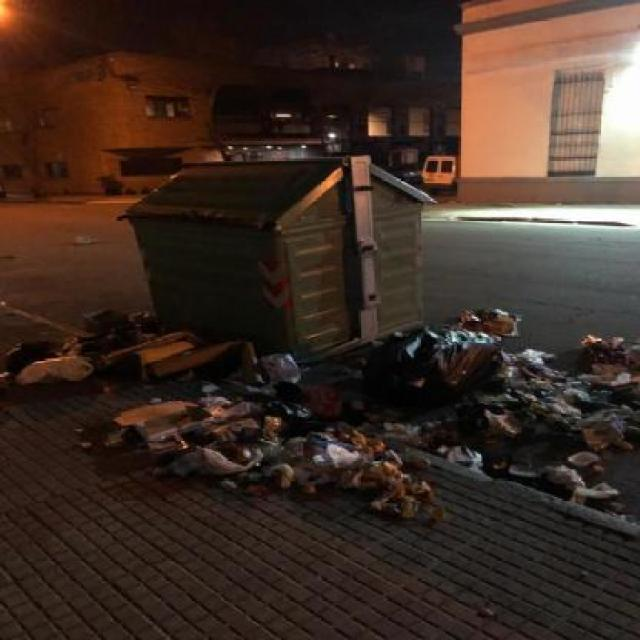garbage: (9, 318, 640, 560)
